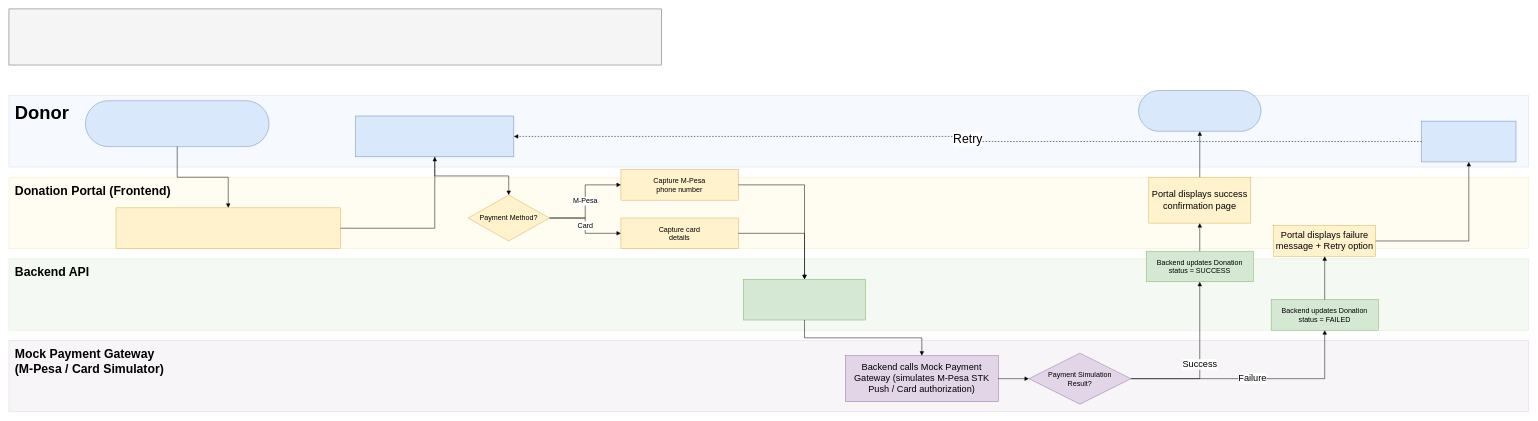
The diagram is 1538 pixels wide and 421 high, and some of its shapes have lost their labels. The centre of each missing label's shape, as x and y in pixels:
"Backend API creates Donation record (status = INITIATED)" goes at (804,299).
"Donor chooses to Retry" goes at (1468,141).
"Donor enters amount & details, selects payment method" goes at (434,136).
"End: Donor receives confirmation (on-screen + email receipt)" goes at (1199,110).
"Online Donation Process - End-to-End Business Process Map" goes at (335,36).
"Portal displays donation form (amount, name, email)" goes at (228,228).
"Start: Donor visits Donation Portal" goes at (177,123).
